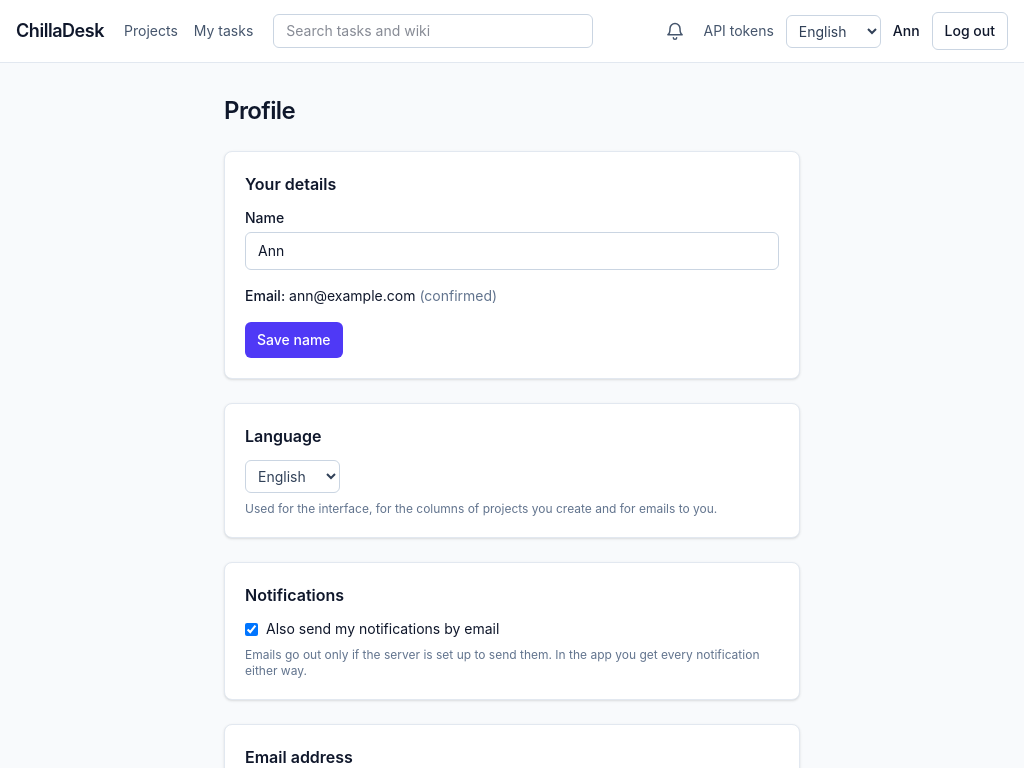
Test: the language of the account › tells the profile when the language is changed here
Check: the heading "Profile" is shown, box [224,96,295,125]
Select "Русский" in the dropdown named "Language" next to "API tokens" at (833, 31), box [786,14,881,48]
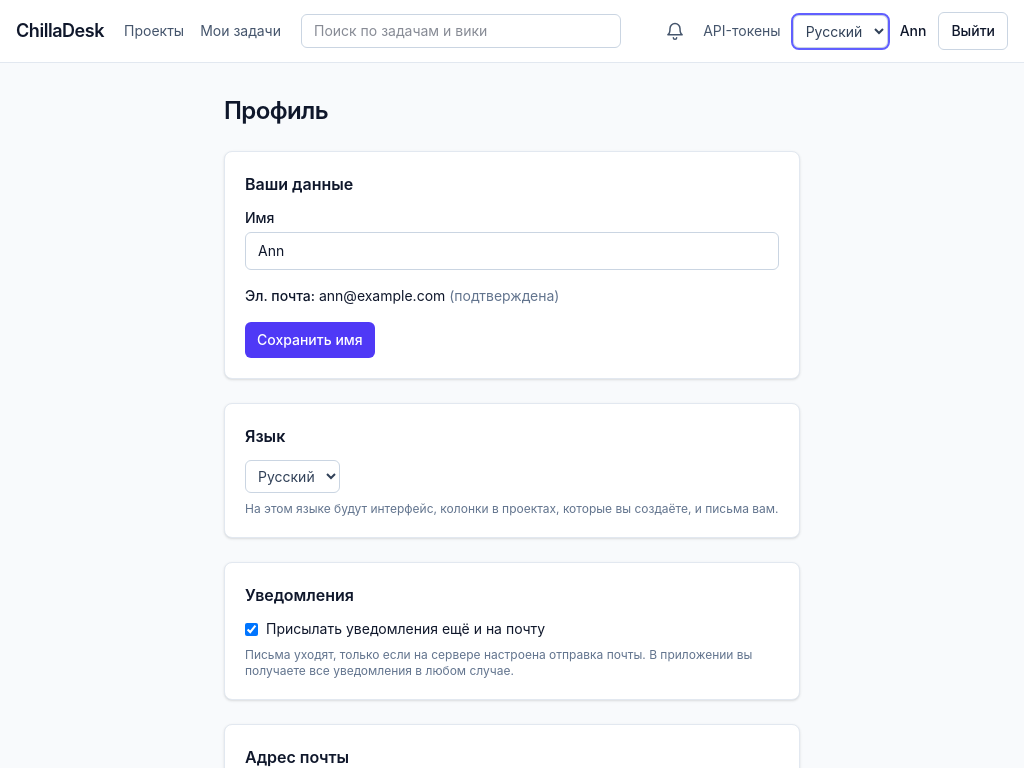
Check: the heading "Профиль" is shown, box [224,96,328,125]
